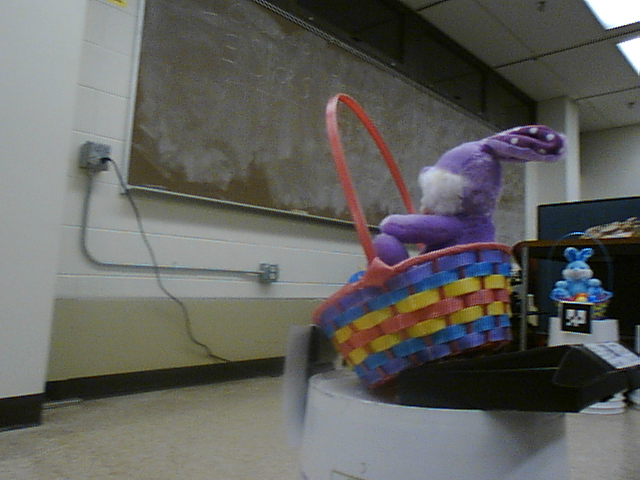bunny: (311, 88, 568, 378), (554, 235, 616, 321)
